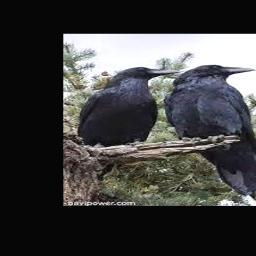Crow: (163, 65, 256, 199), (76, 67, 179, 148)
